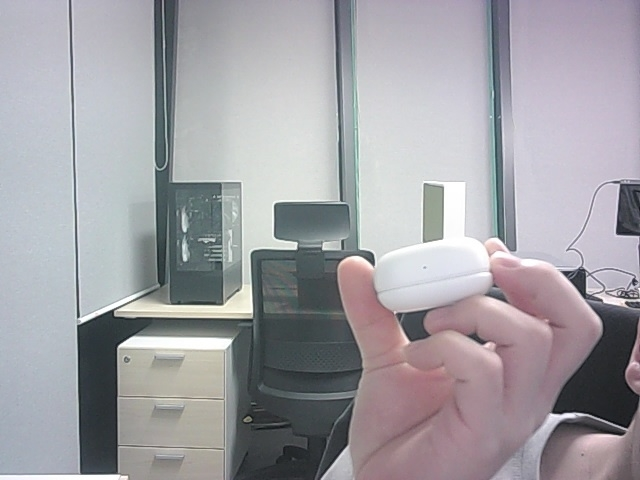case: (374, 237, 492, 313)
